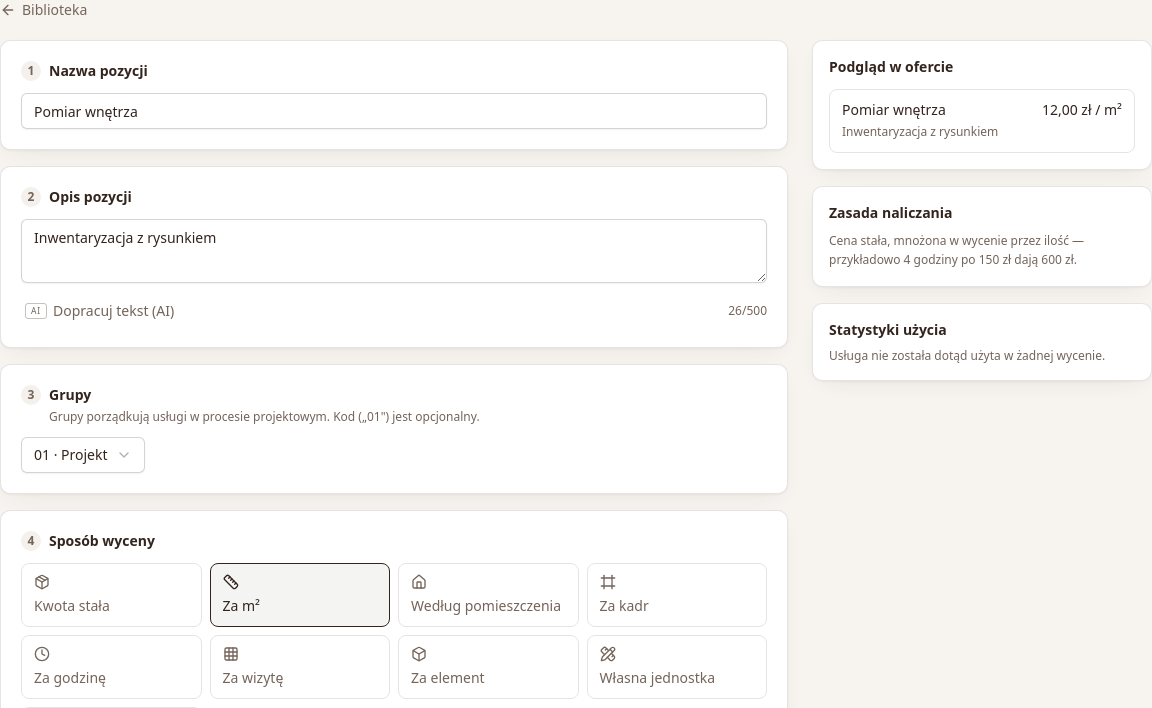
it: LibraryItemPage › „Jak to dziala?" zmienia sie razem ze sposobem wyceny
Expected: the text "Cena stała, mnożona w wycenie przez ilość — przykładowo 4 godziny po 150 zł dają 600 zł." is shown, [829,232,1084,268]
Step 1. Click the radio button labelled "Według pomieszczenia" → (488, 595), box [398,563,578,627]
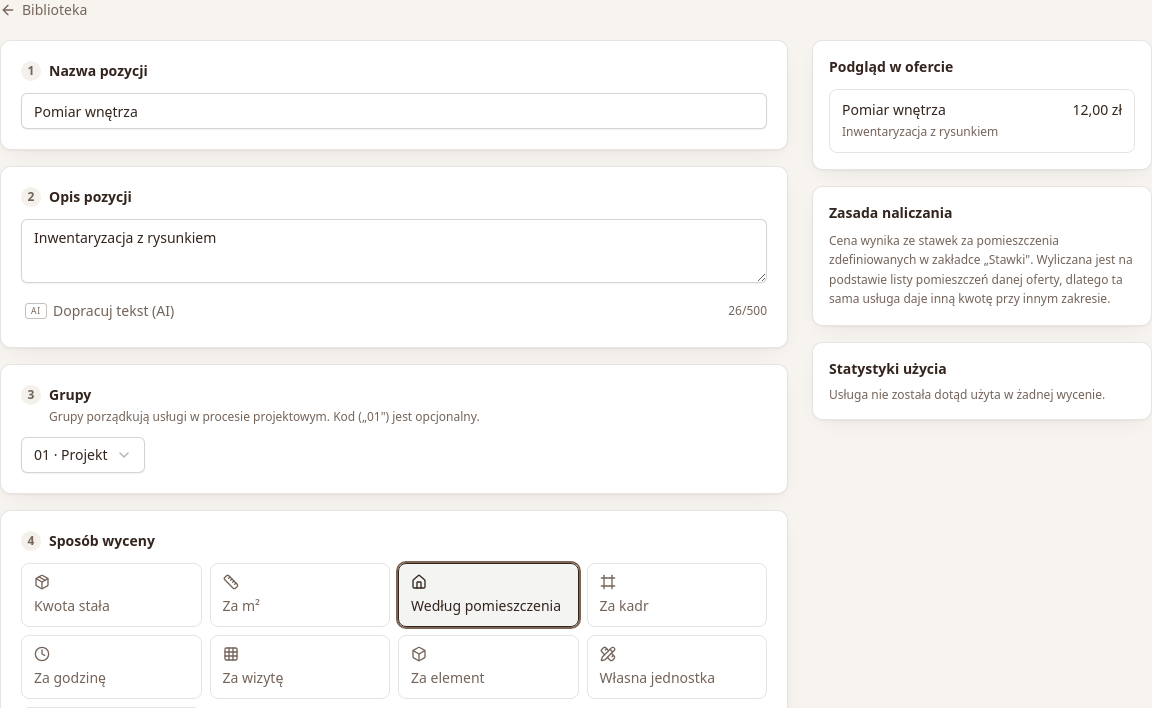
Expected: the text "Cena wynika ze stawek za pomieszczenia zdefiniowanych w zakładce „Stawki\". Wyliczana jest na podstawie listy pomieszczeń" is shown, [829,232,1133,307]
